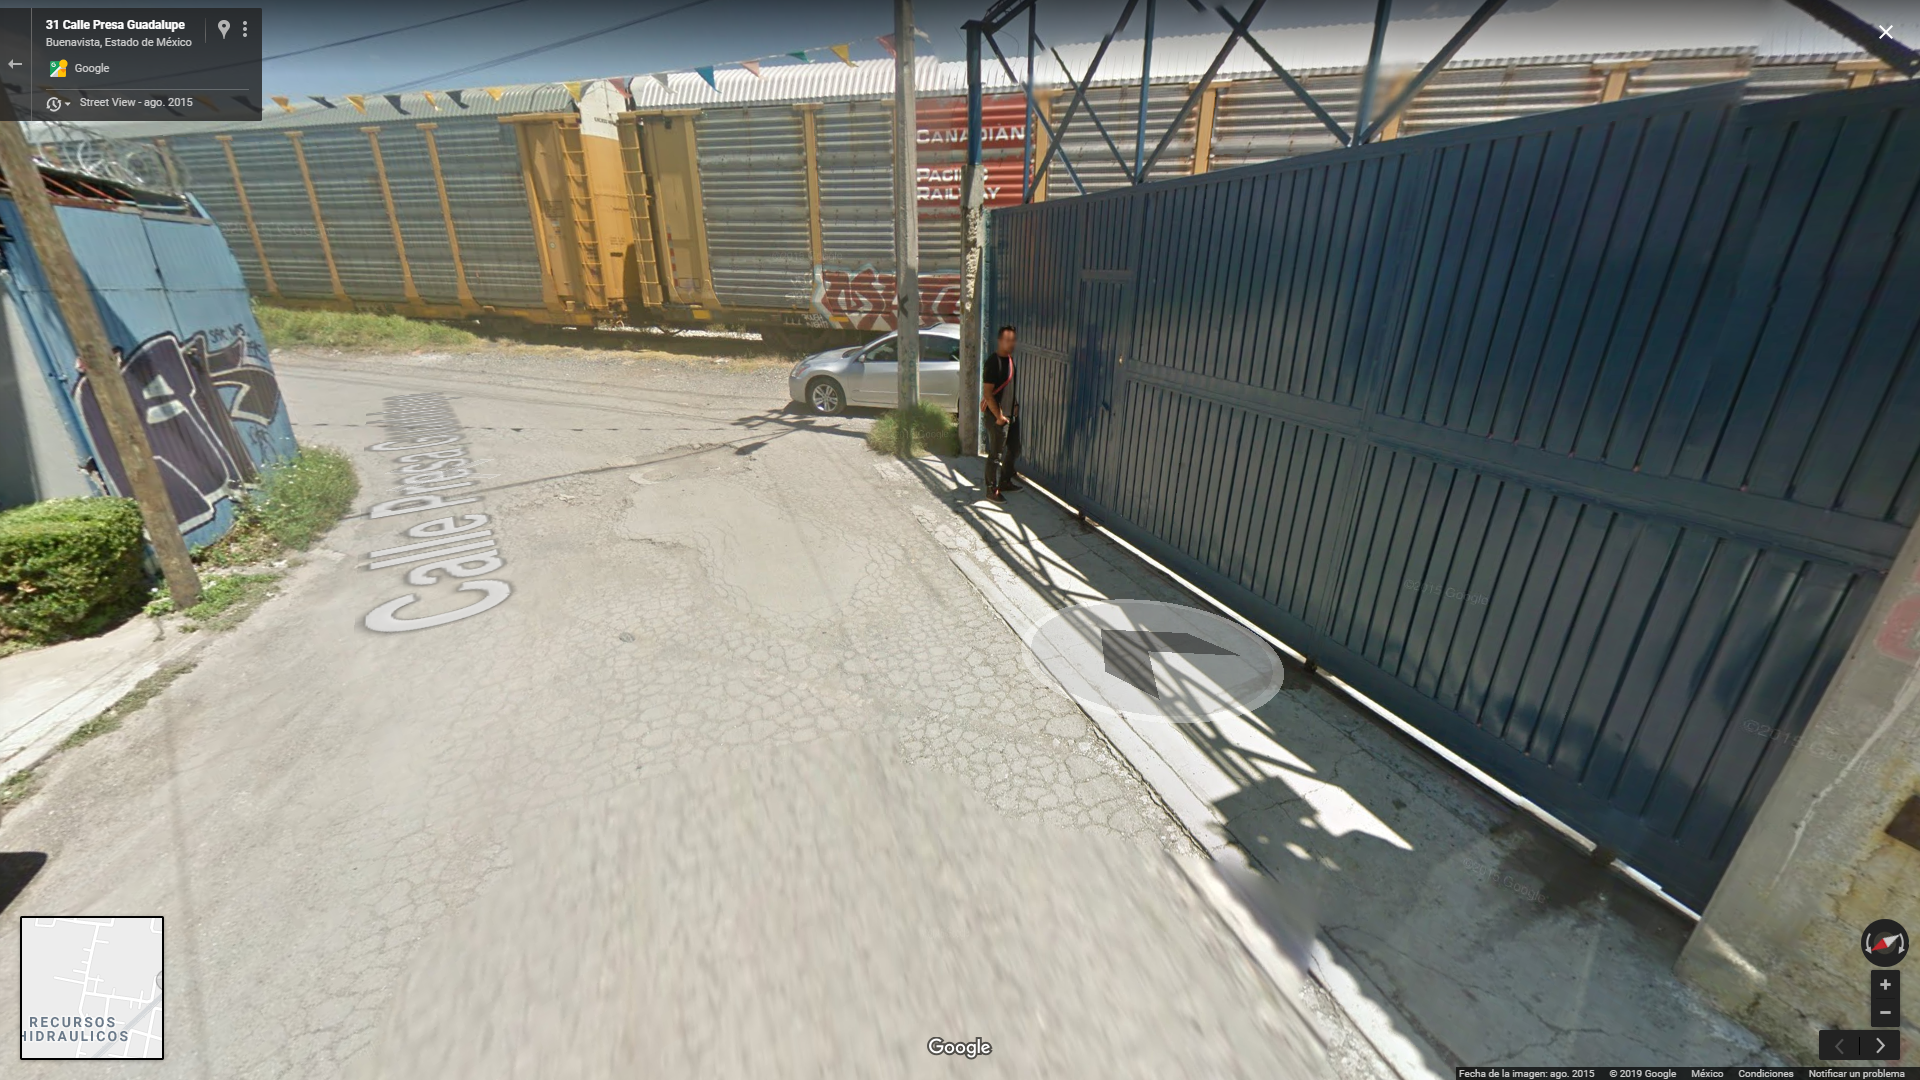pothole: (632, 430, 765, 487)
